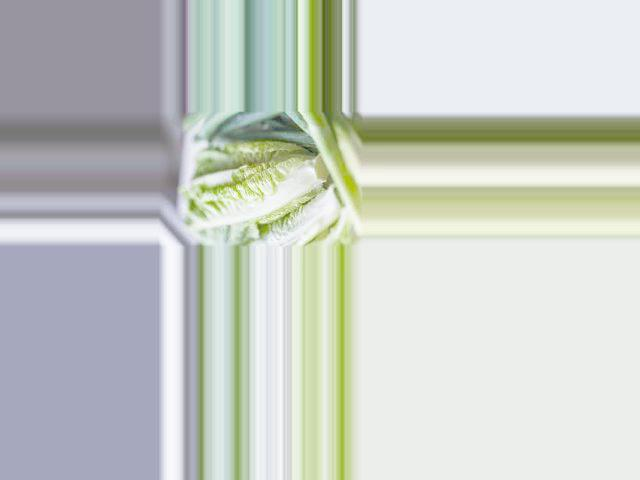lettuce: (166, 125, 321, 252)
